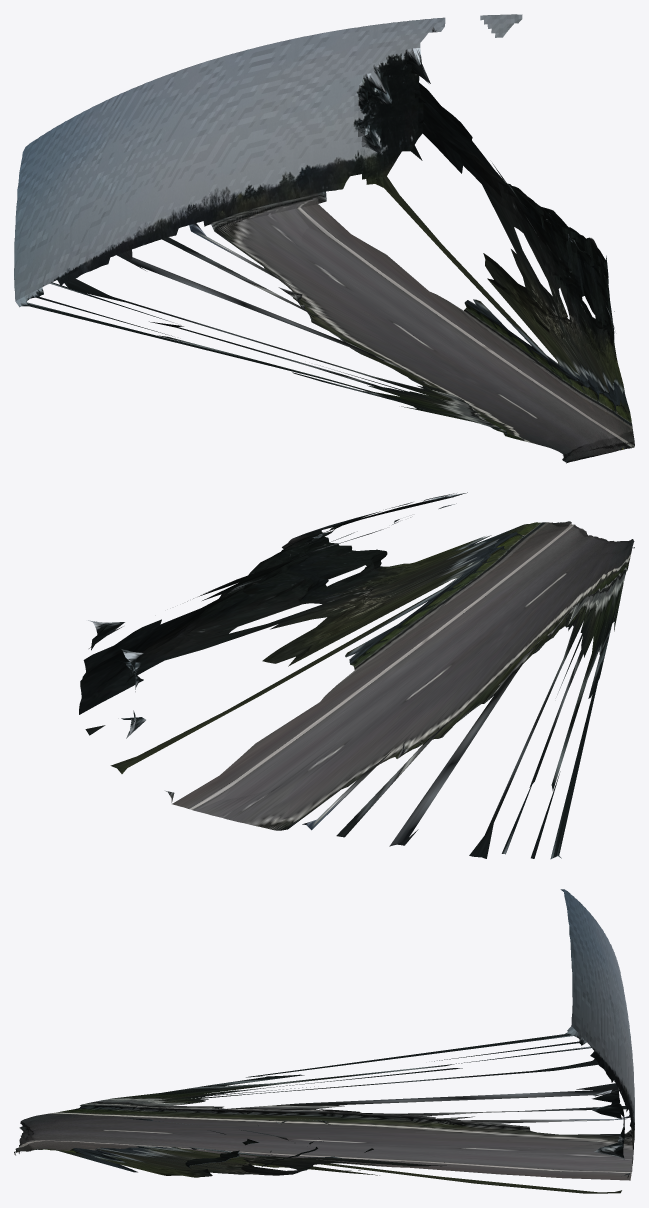
3 views of the same model, one above another, from view 1: azimuth 30°, elevation 25°; view 2: azimuth 150°, elevation 25°; view 3: azimuth 270°, elevation 25° (orthographic). The views are drawn at different scales.
Parts seen in each view (by area): view 1: defaultobject; view 2: defaultobject; view 3: defaultobject.
Boxes of the visible parts, x1,y1,x2,y2 form: defaultobject: (14,14,634,463); defaultobject: (79,492,634,859); defaultobject: (14,889,634,1193).
Bounding box in the file's own units: 38 × 12.7 × 44.55.
1 material, 1 textured.
